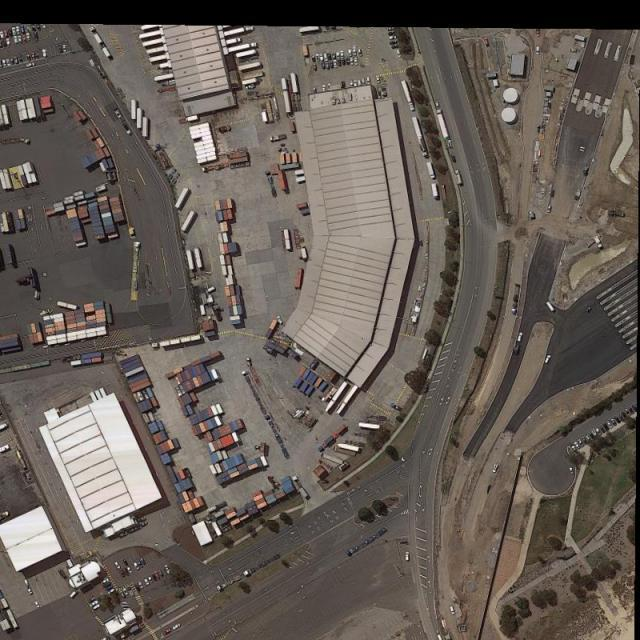vehicle: (89, 27, 111, 59), (437, 109, 450, 138), (224, 25, 254, 37), (229, 42, 258, 53), (426, 162, 437, 180), (226, 37, 242, 46), (454, 170, 463, 186), (126, 586, 136, 598), (100, 576, 110, 586), (122, 587, 131, 598), (132, 582, 141, 593), (492, 462, 500, 474), (163, 564, 171, 576), (150, 571, 159, 581), (102, 580, 112, 589), (154, 570, 162, 581), (602, 422, 610, 432), (137, 580, 145, 590), (118, 567, 126, 577), (140, 557, 148, 567), (123, 567, 130, 578), (137, 558, 144, 569), (25, 62, 36, 69), (88, 595, 97, 603), (90, 600, 99, 608), (544, 354, 552, 363), (614, 416, 622, 425), (574, 441, 582, 450), (92, 603, 101, 611), (114, 560, 122, 569), (146, 574, 154, 583), (1, 58, 7, 70), (70, 590, 78, 599), (162, 627, 172, 634), (171, 623, 181, 630), (546, 204, 553, 214), (516, 332, 523, 342), (133, 561, 140, 571), (618, 414, 626, 422), (599, 426, 607, 434), (585, 434, 593, 442), (34, 600, 41, 609), (27, 586, 34, 595), (610, 418, 617, 427), (606, 420, 613, 429), (375, 74, 382, 83), (391, 43, 400, 50), (578, 438, 585, 447), (571, 446, 578, 455), (104, 585, 113, 592), (119, 590, 126, 599), (143, 577, 150, 586), (450, 605, 456, 615), (158, 568, 164, 578), (18, 53, 24, 63), (581, 437, 588, 445), (628, 407, 636, 414), (621, 410, 628, 418), (595, 428, 602, 436), (122, 558, 129, 566), (126, 566, 133, 574), (206, 286, 214, 293), (405, 551, 410, 562), (33, 31, 38, 42), (14, 55, 19, 66), (389, 40, 398, 46), (312, 87, 317, 97), (366, 75, 371, 85), (7, 28, 12, 38), (26, 32, 31, 42), (63, 43, 68, 53), (31, 50, 36, 60), (6, 58, 11, 68), (24, 578, 30, 586), (625, 409, 631, 417), (396, 49, 402, 57), (451, 154, 456, 163), (331, 51, 336, 60), (358, 48, 363, 57), (569, 466, 574, 475), (11, 26, 16, 35), (58, 45, 63, 54), (323, 53, 328, 62), (535, 46, 540, 55), (350, 80, 354, 90), (327, 82, 331, 92), (350, 56, 354, 66), (13, 35, 17, 45), (26, 54, 31, 62), (10, 56, 14, 66), (315, 53, 319, 63), (550, 189, 554, 198), (341, 50, 345, 59), (354, 56, 358, 65), (389, 35, 398, 39), (4, 29, 8, 38), (16, 26, 20, 35), (6, 37, 10, 46), (21, 34, 25, 43), (352, 48, 357, 55), (354, 80, 358, 88), (358, 78, 362, 86), (362, 77, 366, 85), (329, 61, 333, 69), (313, 64, 317, 72), (321, 62, 325, 70), (337, 59, 341, 67), (346, 58, 350, 66), (42, 50, 46, 58), (319, 54, 323, 62), (437, 634, 442, 640), (348, 49, 352, 56), (342, 59, 346, 66), (107, 590, 114, 594), (322, 85, 325, 94), (337, 51, 340, 60), (334, 60, 337, 69), (36, 50, 39, 59), (326, 61, 329, 69), (3, 38, 6, 46), (18, 35, 21, 43), (327, 53, 330, 61), (312, 54, 315, 62), (1, 30, 3, 39), (21, 25, 23, 34), (1, 59, 2, 70), (1, 39, 2, 47)
